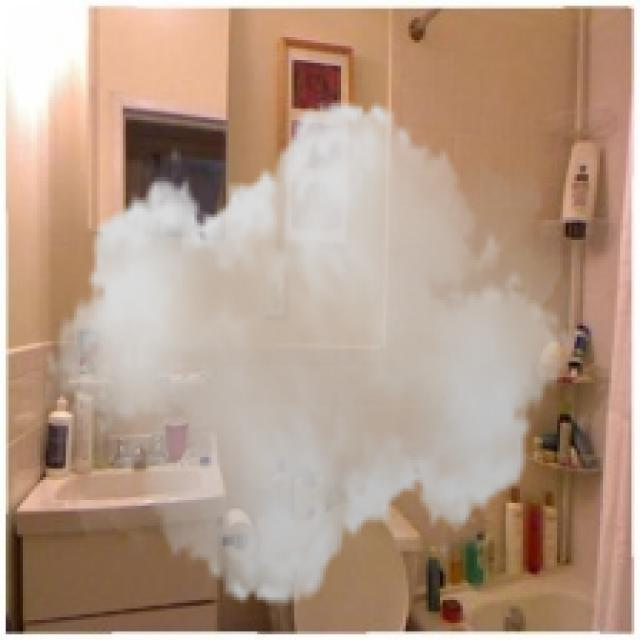Smoke: (46, 80, 574, 626)
